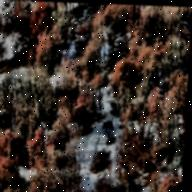boar: (97, 115, 119, 134)
